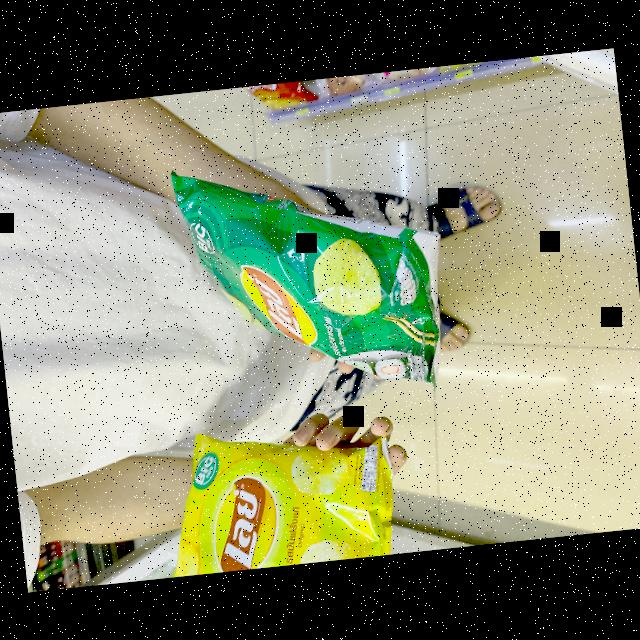snack_bag: (154, 136, 453, 413), (152, 411, 406, 577)
